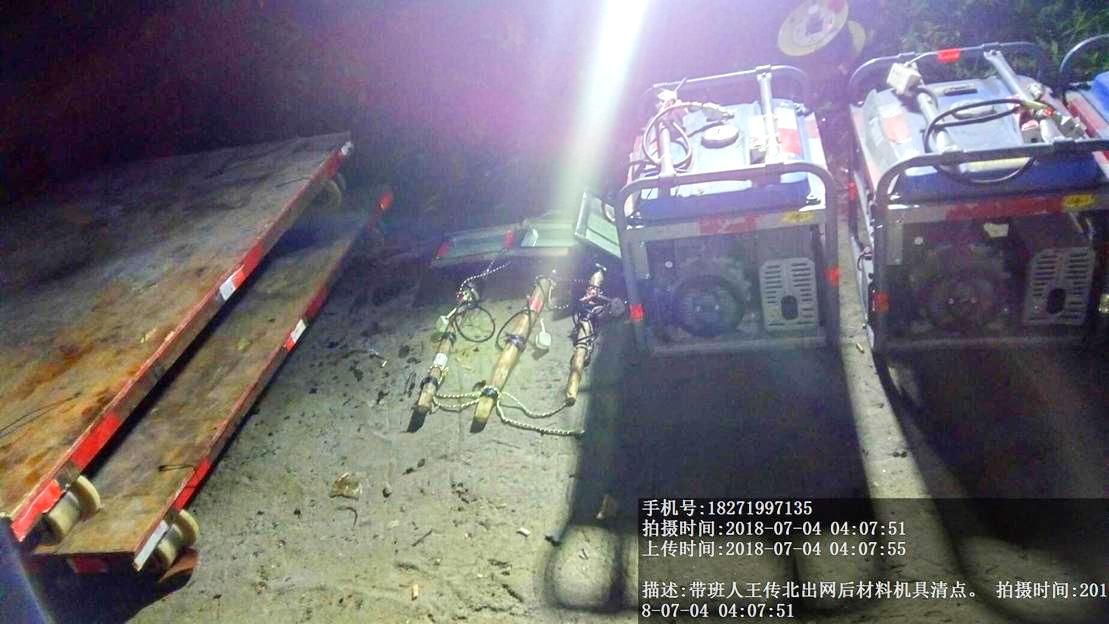DJ: (845, 58, 1099, 370), (607, 73, 845, 354)
